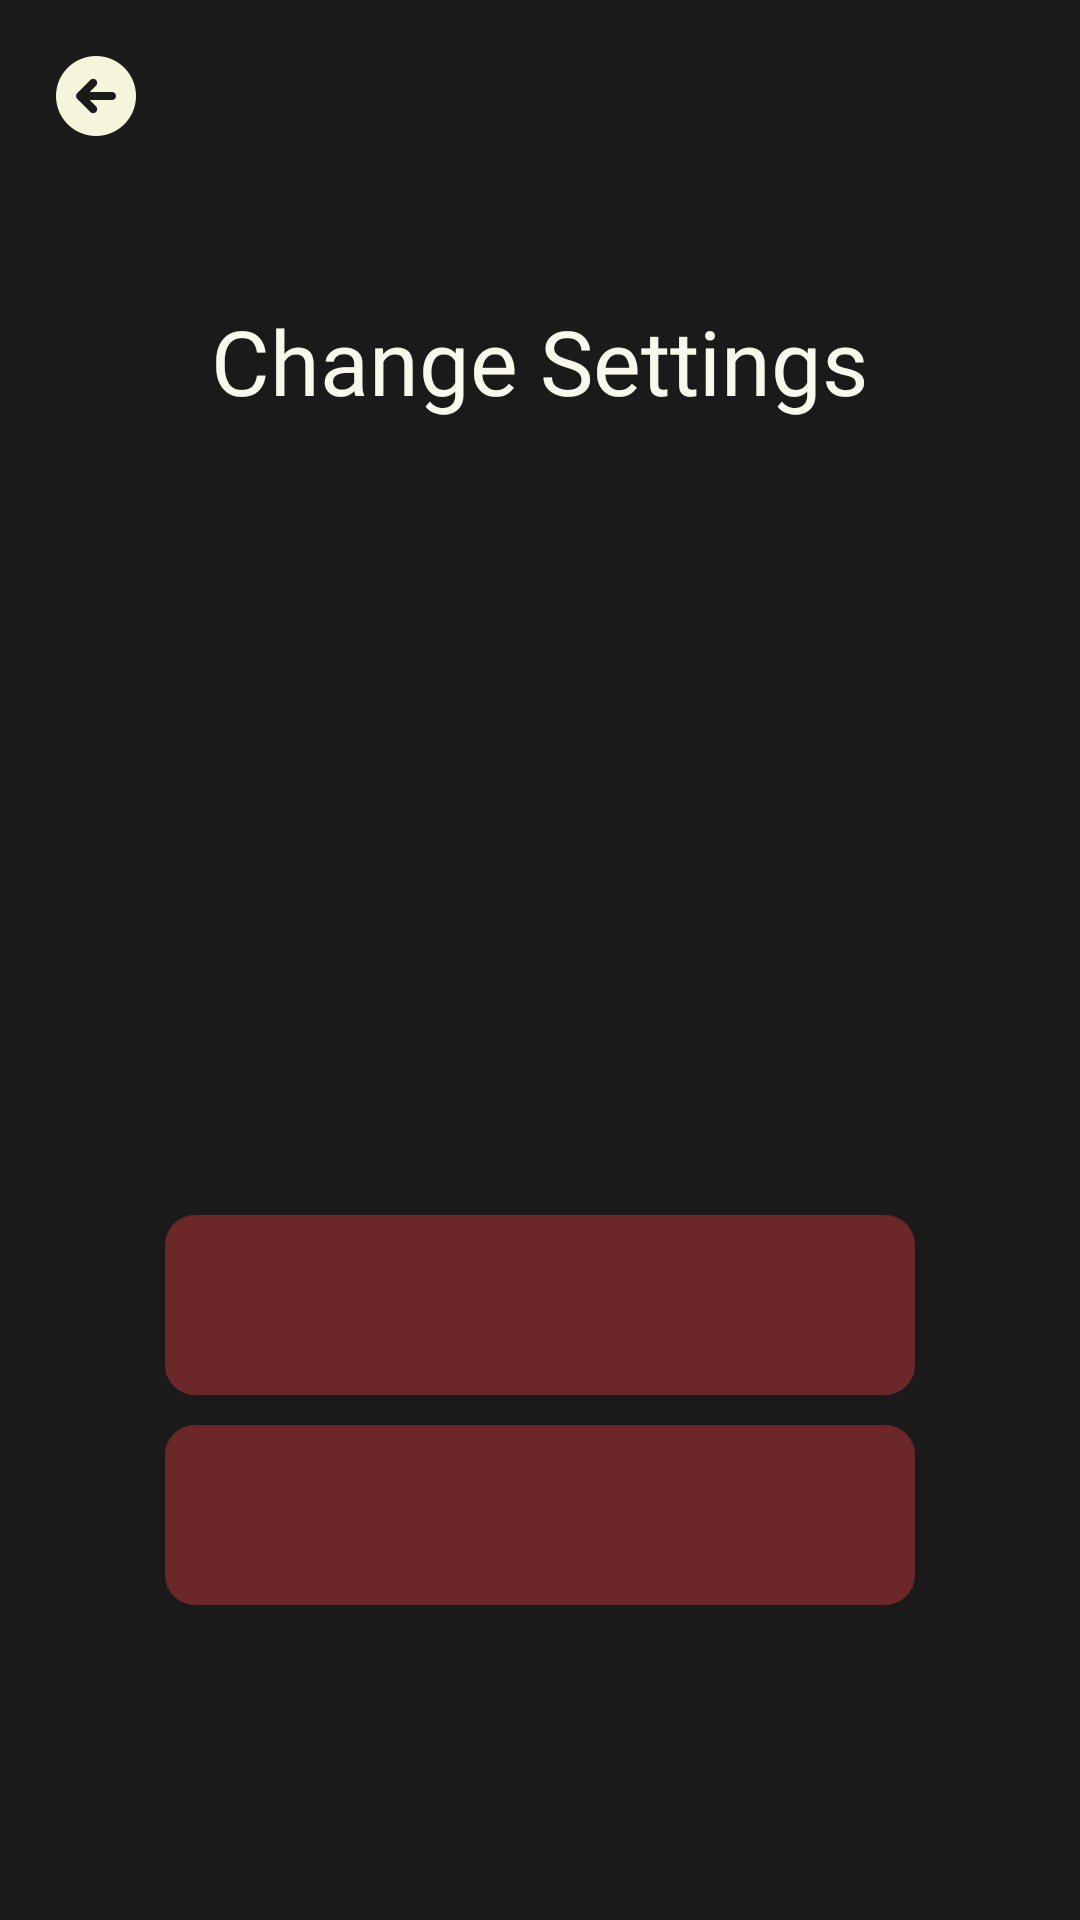

Icon click points for this 1080w x 1920h phone screenshot, format (x,y):
back: (96,96)
